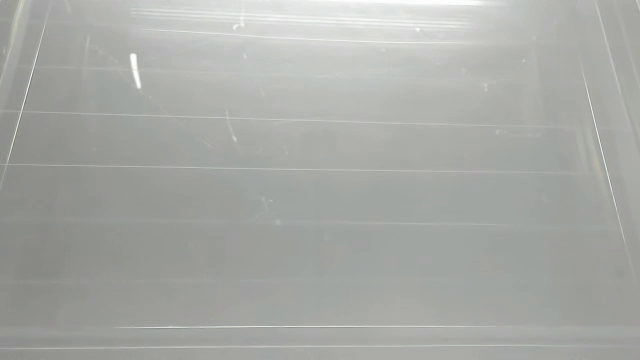alpha: (125, 49, 151, 91)
